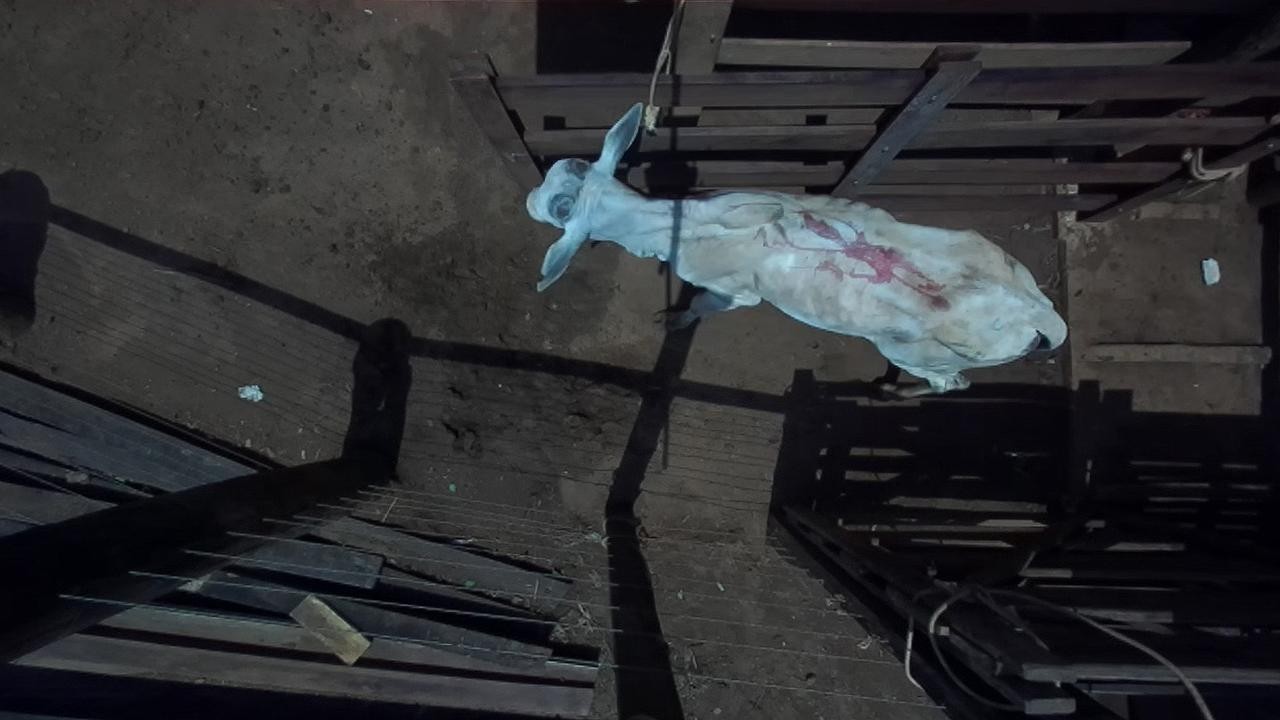cattle: (524, 100, 1069, 395)
